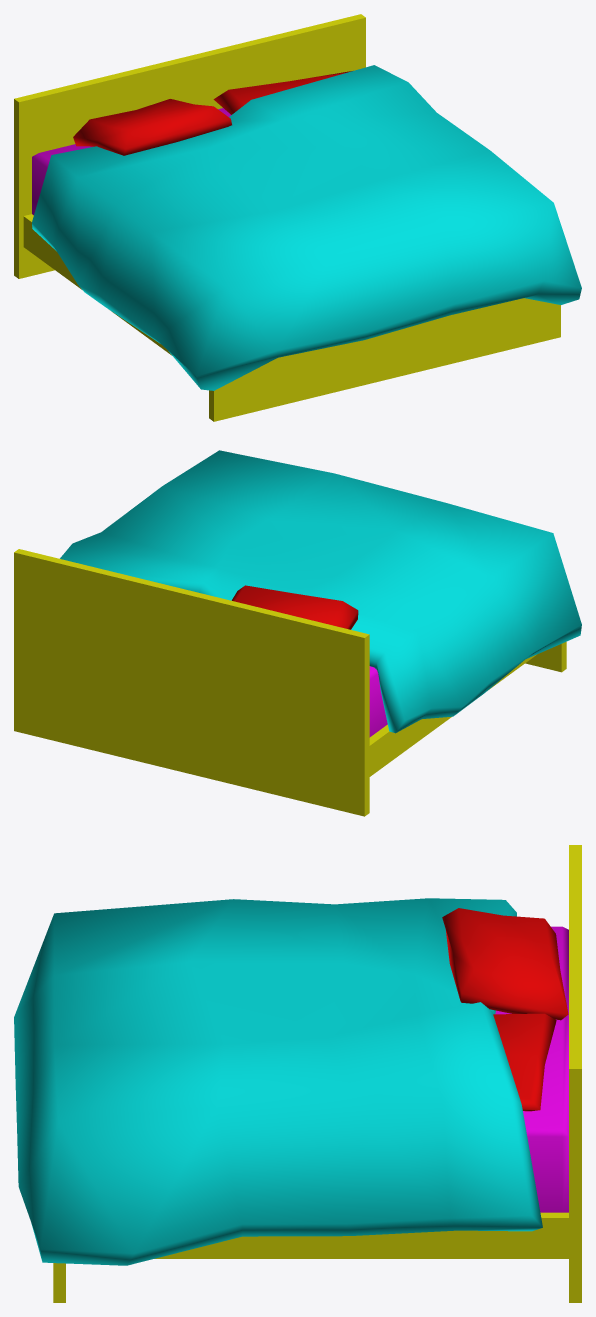
File: Bed.FBX
3 views of the same model, one above another, from view 1: azimuth 30°, elevation 25°; view 2: azimuth 150°, elevation 25°; view 3: azimuth 270°, elevation 25° (orthographic). The views are drawn at different scales.
Parts seen in each view (by area): view 1: Bed; view 2: Bed; view 3: Bed.
Part boxes in pixels (x1,y1,x2,y2): Bed: (14,14,581,421); Bed: (14,450,581,816); Bed: (14,845,581,1302).
Size of the model in its own units: 28.84 by 12.7 by 27.97.
